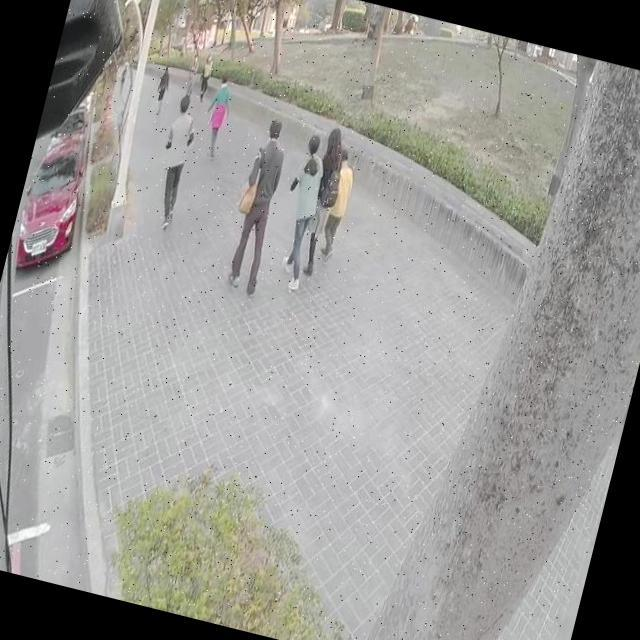person: (218, 110, 300, 297), (272, 130, 336, 286), (296, 128, 358, 272), (146, 95, 206, 235), (316, 146, 364, 266), (196, 74, 239, 165), (180, 51, 203, 102), (195, 52, 216, 100), (154, 66, 173, 115)
